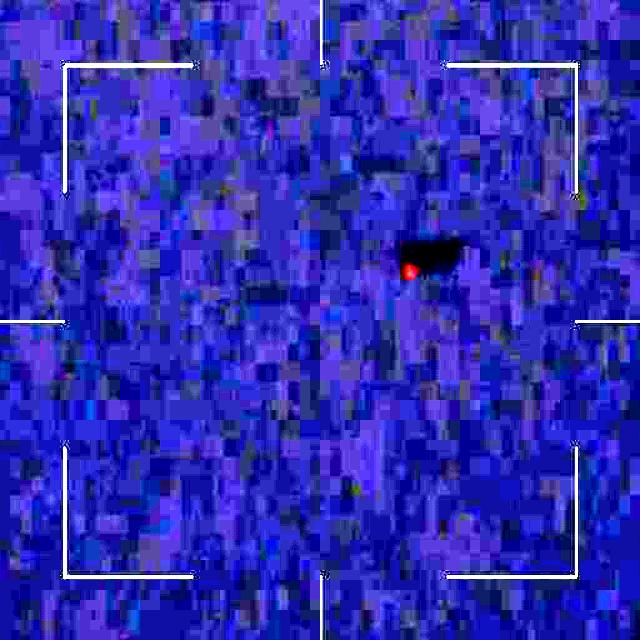bird: (398, 241, 424, 289)
